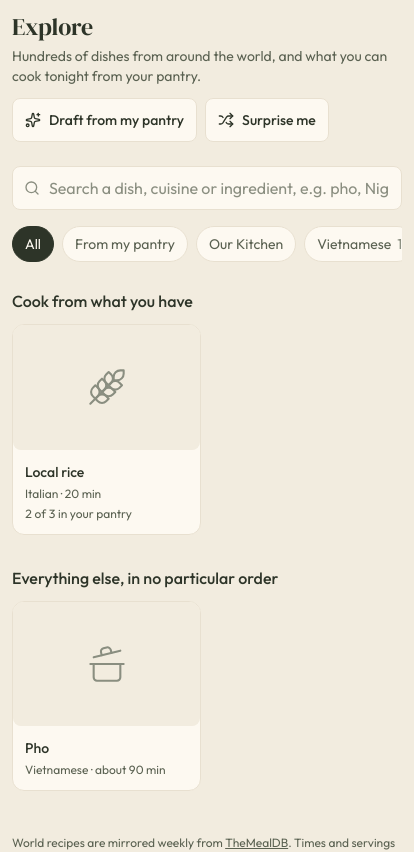
Test: Explore page › ranks dishes by pantry coverage and filters to them
This screenshot has width=414, height=852.
Expected: the button "Pho Vietnamese · about 90 min" is shown, [12, 601, 201, 791]
Expected: the button "Local rice Italian · 20 min 2 of 3 in your pantry" is shown, [12, 324, 201, 535]
Click the button "From my pantry": click(125, 244) [62, 226, 188, 262]
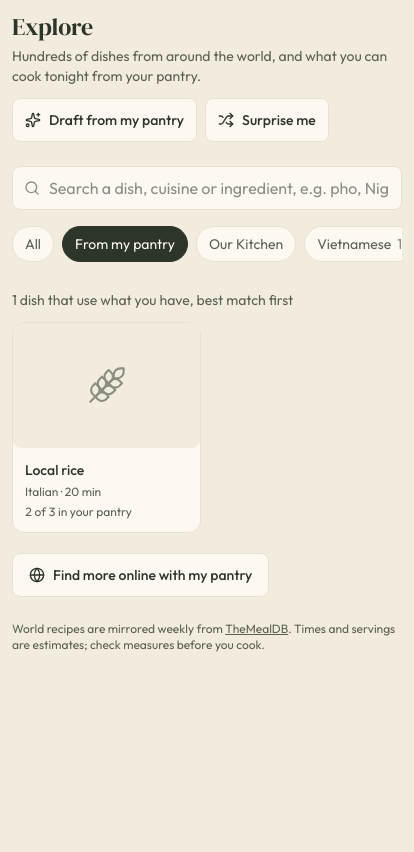
Result: the heading "1 dish that use what you have, best match first" is shown at [12, 291, 293, 309]
